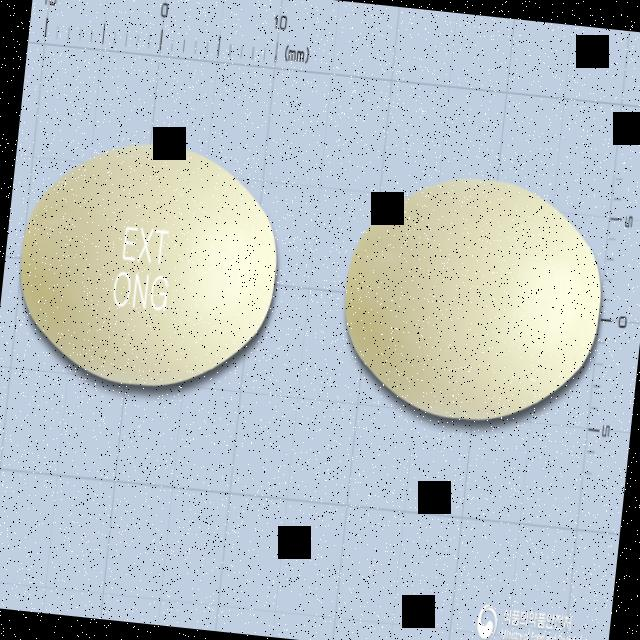ONG Vaginal Soft Cap: (9, 131, 288, 401)
